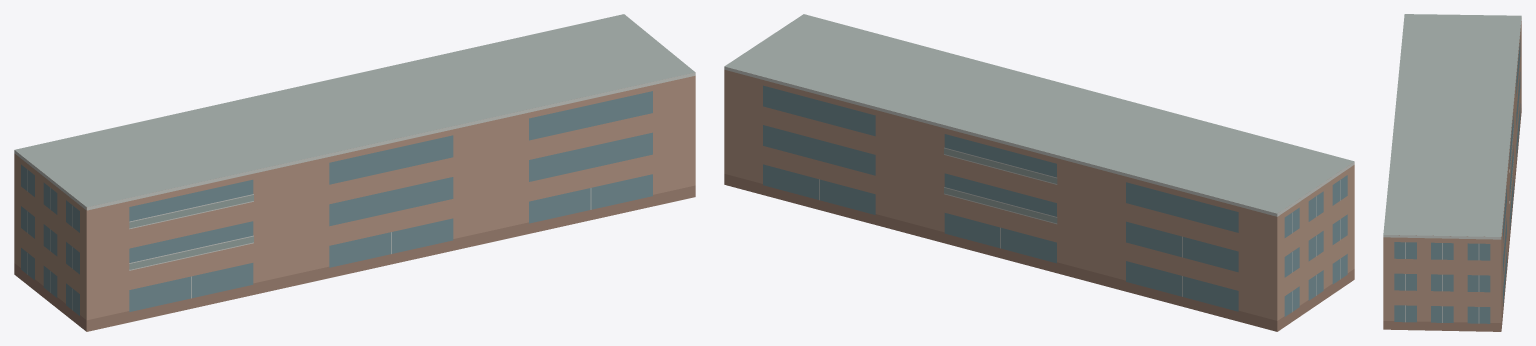
The model's file is survey-upis-33002615.glb.
3 renders of one model, left to right at view 1: azimuth 30°, elevation 25°; view 2: azimuth 150°, elevation 25°; view 3: azimuth 270°, elevation 25°, orthographic. The views are drawn at different scales.
Visible parts, largest first — view 1: survey-upis-33002615.tmp; view 2: survey-upis-33002615.tmp; view 3: survey-upis-33002615.tmp.
Boxes of the visible parts, <box> form: survey-upis-33002615.tmp: <box>14,14,695,331</box>; survey-upis-33002615.tmp: <box>724,14,1354,331</box>; survey-upis-33002615.tmp: <box>1383,14,1521,331</box>.
Bounding box in the file's own units: 46.19 × 9.15 × 12.11.
